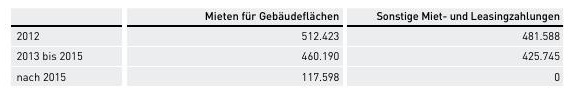table: (0, 0, 577, 98)
